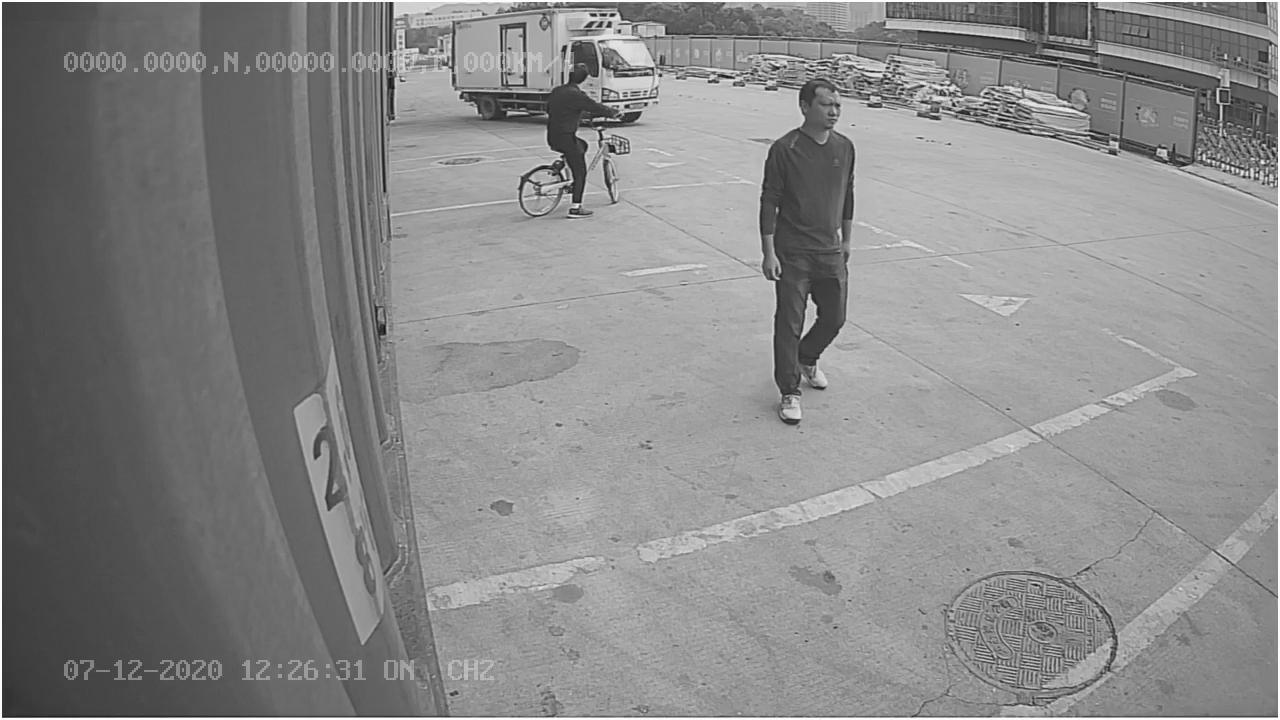person: (751, 75, 861, 426)
